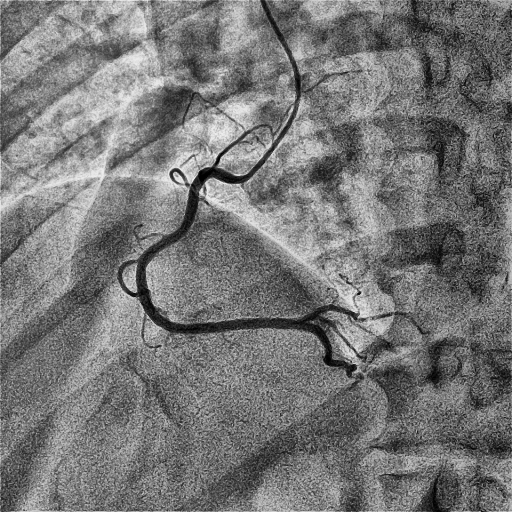pborca: (297, 305, 432, 334)
pda: (301, 323, 364, 380)
rca: (136, 167, 303, 334)
